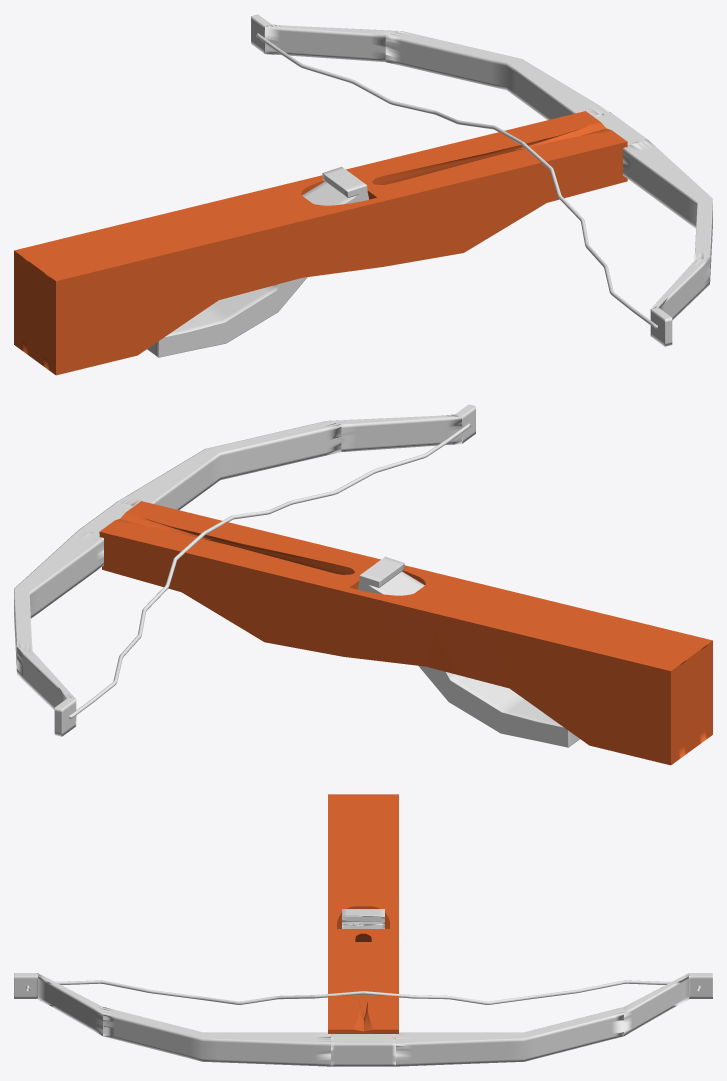
Rendered from crossbow.fbx.
3 renders of one model, top to bottom at view 1: azimuth 30°, elevation 25°; view 2: azimuth 150°, elevation 25°; view 3: azimuth 270°, elevation 25°, orthographic. The views are drawn at different scales.
Visible parts, largest first — view 1: Cube, Cube.002, Cube.001, NurbsPath; view 2: Cube, Cube.002, Cube.001, NurbsPath; view 3: Cube.002, Cube, NurbsPath, Cube.001.
Boxes of the visible parts, left/top/right/bottom form: Cube: left=14, top=111, right=627, bottom=375; Cube.002: left=251, top=14, right=712, bottom=346; Cube.001: left=147, top=166, right=369, bottom=357; NurbsPath: left=256, top=33, right=657, bottom=328; Cube: left=99, top=501, right=712, bottom=765; Cube.002: left=14, top=404, right=475, bottom=736; Cube.001: left=357, top=556, right=579, bottom=747; NurbsPath: left=69, top=423, right=470, bottom=718; Cube.002: left=14, top=973, right=712, bottom=1066; Cube: left=328, top=794, right=398, bottom=1033; NurbsPath: left=26, top=980, right=700, bottom=1004; Cube.001: left=342, top=909, right=384, bottom=928.
Bounding box in the file's own units: 1009 × 201 × 1218.
